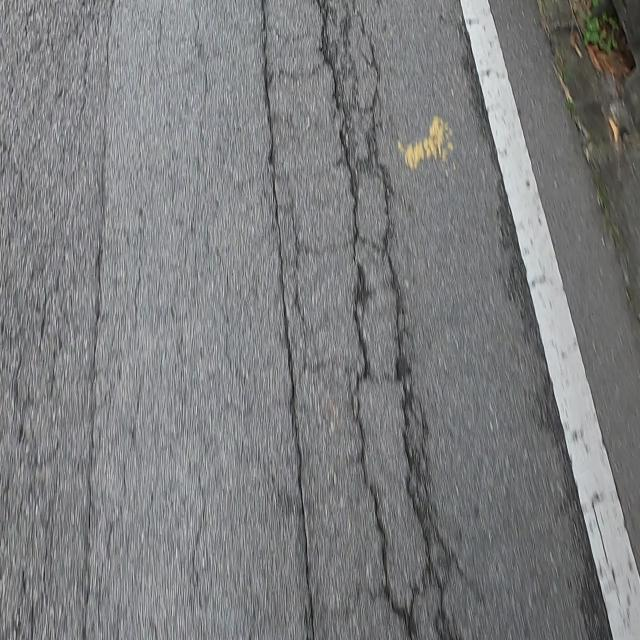Retak-Buaya: (315, 0, 454, 640), (2, 0, 110, 638)
Retak-Memanjang: (259, 3, 319, 637)
